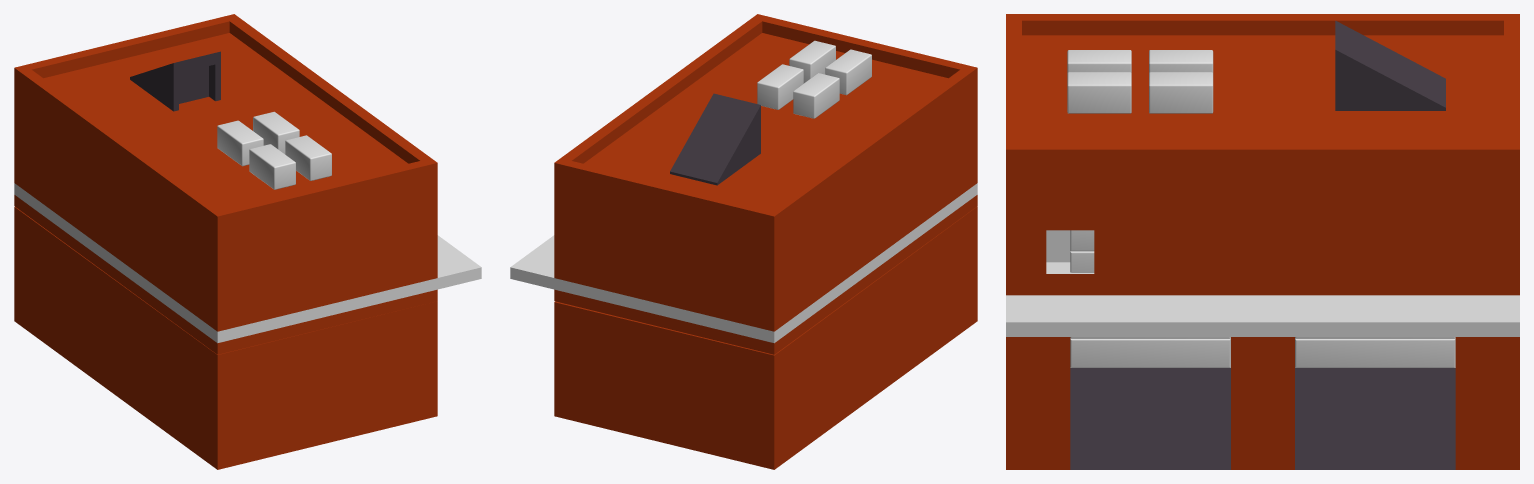
The model's file is fire_station.fbx.
3 views of the same model, side by side, from view 1: azimuth 30°, elevation 25°; view 2: azimuth 150°, elevation 25°; view 3: azimuth 270°, elevation 25° (orthographic). The views are drawn at different scales.
Parts seen in each view (by area): view 1: top_floor, Walls, overhang, celling, roof_exist, Cube, Cube_1_2, Cube_3_2, Cube_2_2; view 2: top_floor, Walls, overhang, roof_exist, celling, Cube_3_2, Cube_2_2, Cube, Cube_1_2; view 3: top_floor, Floor_inside, Walls, overhang, roof_exist, DOOR_0, DOOR_0_2, Cube_2_2, Cube_1_2, Cube_3_2, Cube, Cube_0 (+2 smaller).
Part boxes in pixels (left/top/right/bottom): top_floor: left=14, top=14, right=437, bottom=331; Walls: left=14, top=206, right=437, bottom=469; overhang: left=14, top=183, right=481, bottom=343; celling: left=14, top=195, right=437, bottom=354; roof_exist: left=130, top=51, right=220, bottom=111; Cube: left=249, top=144, right=295, bottom=189; Cube_1_2: left=285, top=135, right=331, bottom=180; Cube_3_2: left=217, top=120, right=263, bottom=166; Cube_2_2: left=253, top=111, right=299, bottom=154; top_floor: left=554, top=14, right=977, bottom=331; Walls: left=554, top=206, right=977, bottom=469; overhang: left=510, top=183, right=977, bottom=343; roof_exist: left=670, top=93, right=760, bottom=185; celling: left=554, top=195, right=977, bottom=354; Cube_3_2: left=793, top=73, right=839, bottom=118; Cube_2_2: left=757, top=64, right=803, bottom=109; Cube: left=825, top=49, right=871, bottom=95; Cube_1_2: left=789, top=40, right=835, bottom=83; top_floor: left=1006, top=14, right=1519, bottom=295; Floor_inside: left=1070, top=368, right=1455, bottom=469; Walls: left=1006, top=337, right=1519, bottom=469; overhang: left=1006, top=295, right=1519, bottom=336; roof_exist: left=1335, top=20, right=1445, bottom=110; DOOR_0: left=1295, top=338, right=1455, bottom=367; DOOR_0_2: left=1070, top=338, right=1230, bottom=367; Cube_2_2: left=1149, top=72, right=1213, bottom=113; Cube_1_2: left=1067, top=72, right=1131, bottom=113; Cube_3_2: left=1149, top=50, right=1213, bottom=73; Cube: left=1067, top=50, right=1131, bottom=72; Cube_0: left=1046, top=230, right=1094, bottom=273.
Size of the model in its own units: 240 by 252 by 320.
